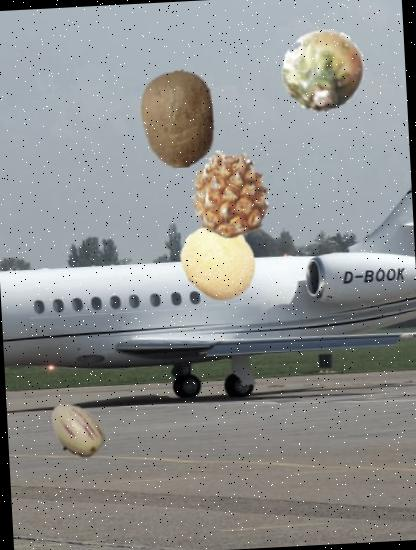Cactus: (280, 25, 368, 114)
Cantaloupe: (178, 218, 262, 302)
Kiwi: (128, 67, 231, 170)
Pepino: (44, 397, 110, 464)
Pineapple: (184, 147, 278, 241)
